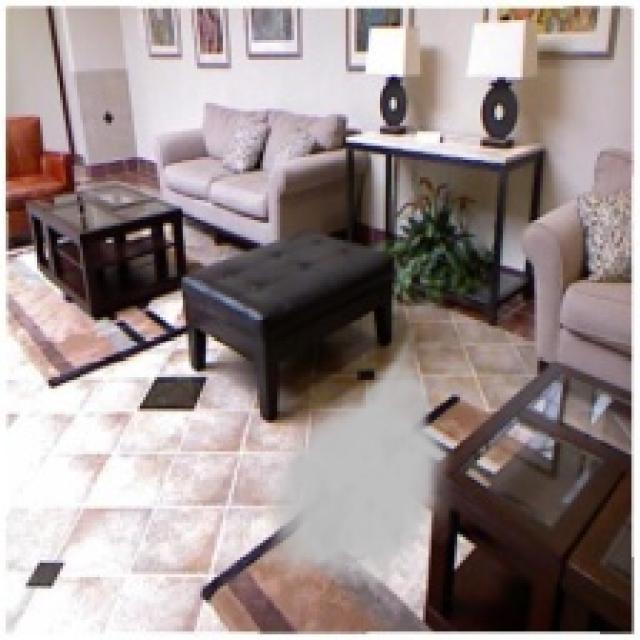Smoke: (254, 317, 457, 592)
